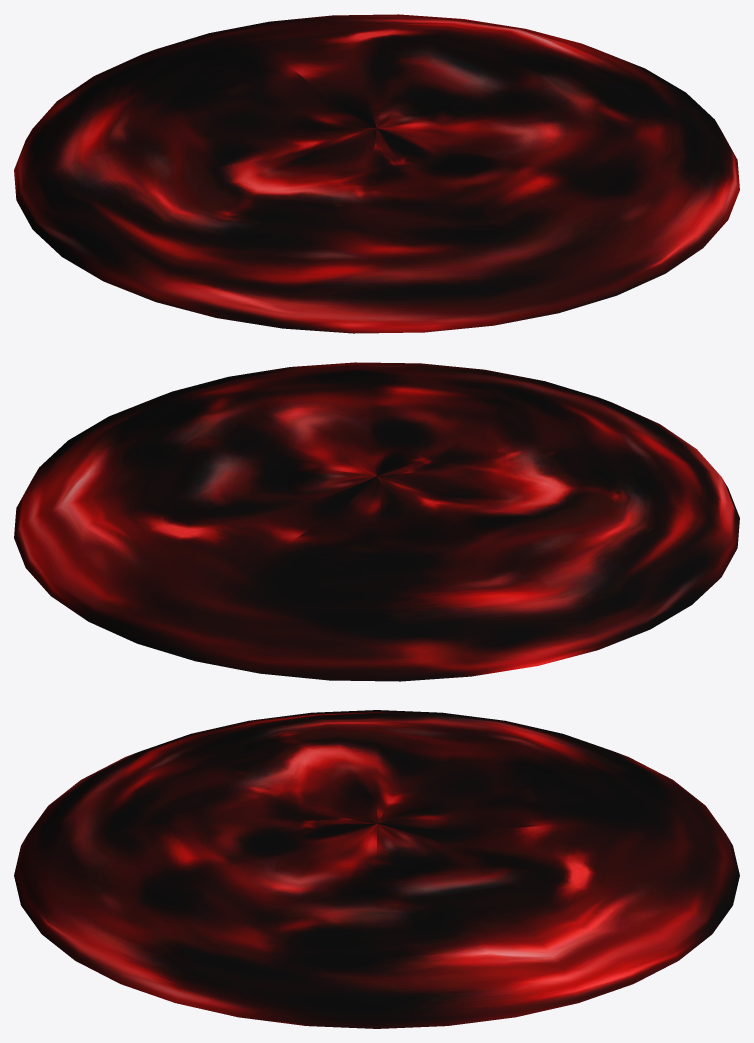
File: banyun_chuansong.FBX
3 views of the same model, one above another, from view 1: azimuth 30°, elevation 25°; view 2: azimuth 150°, elevation 25°; view 3: azimuth 270°, elevation 25° (orthographic).
Visible parts, largest first — view 1: hadisi_chuansongmen; view 2: hadisi_chuansongmen; view 3: hadisi_chuansongmen.
Part boxes in pixels (<box>): hadisi_chuansongmen: <box>14,14,739,333</box>; hadisi_chuansongmen: <box>14,362,739,681</box>; hadisi_chuansongmen: <box>14,710,739,1028</box>.
Bounding box in the file's own units: 452 × 35.6 × 452.
